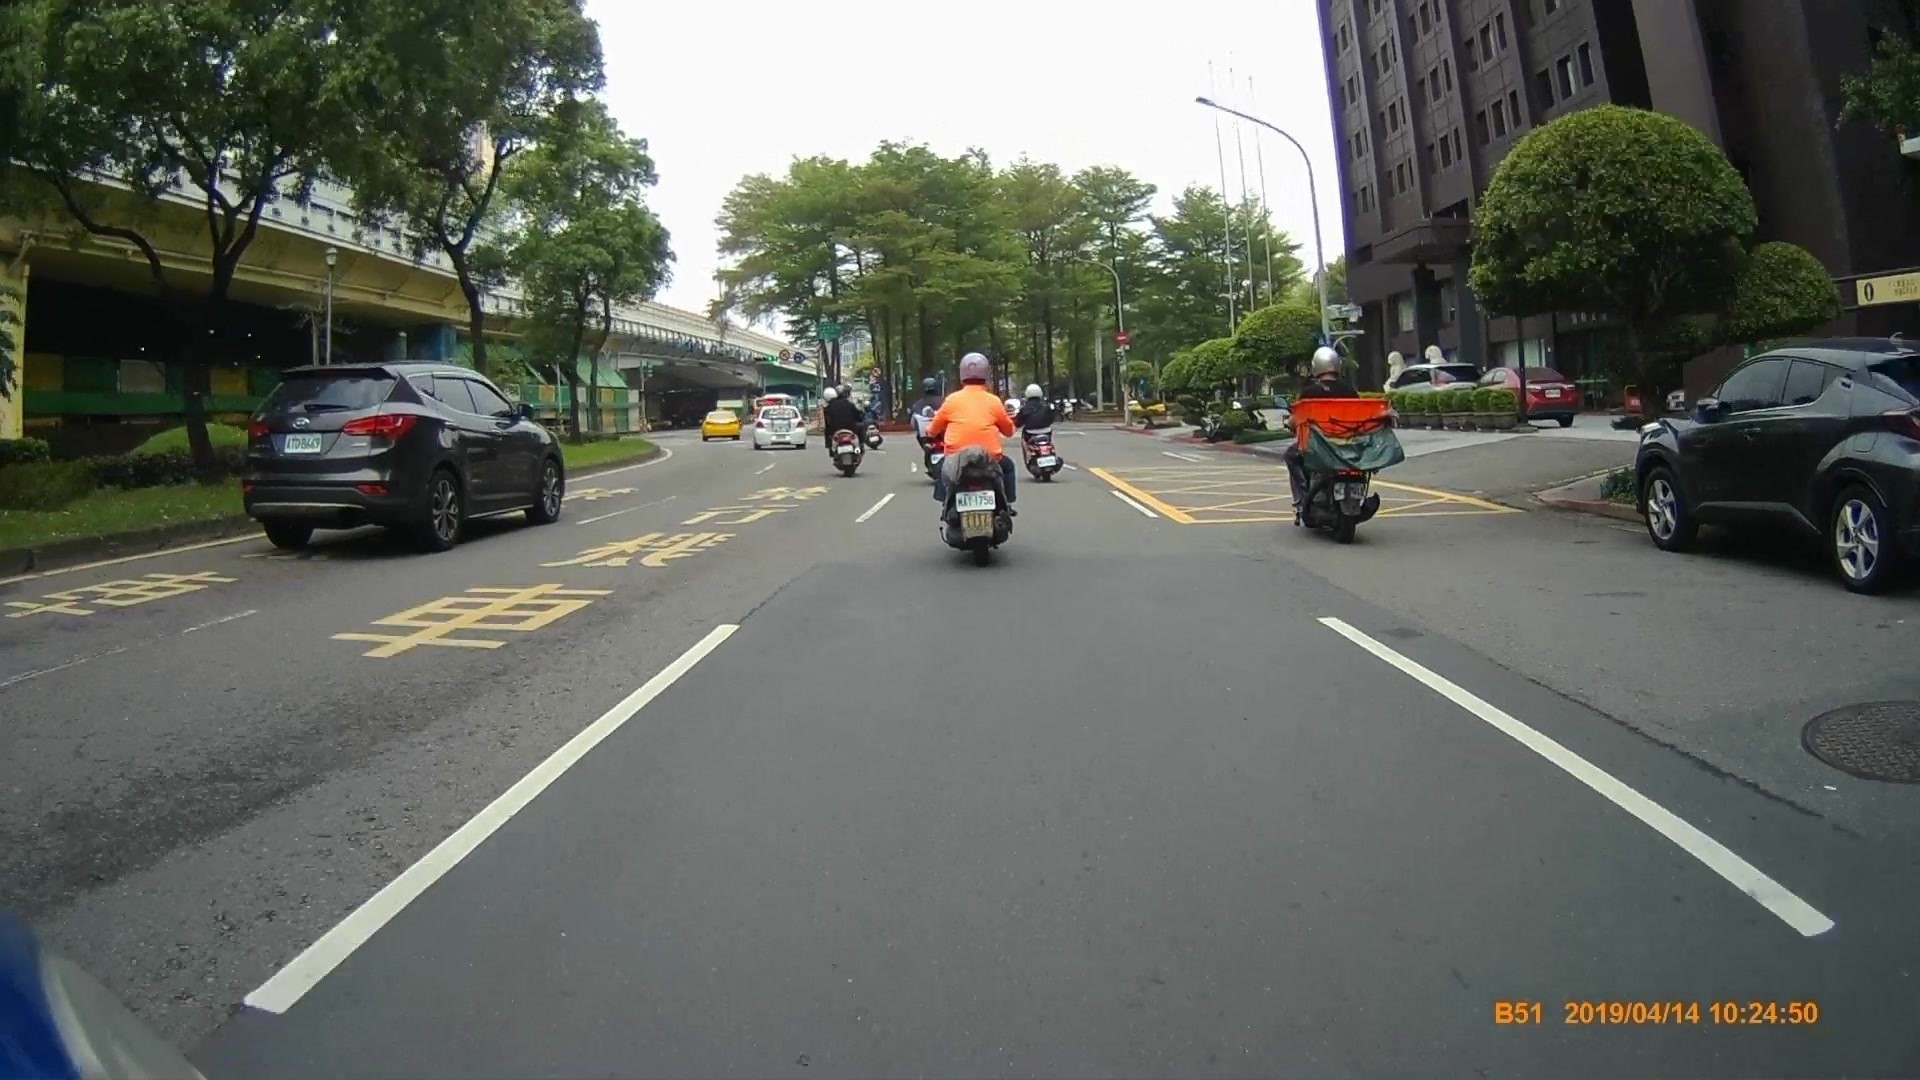License_plate: (954, 489, 999, 511), (281, 430, 325, 453)
